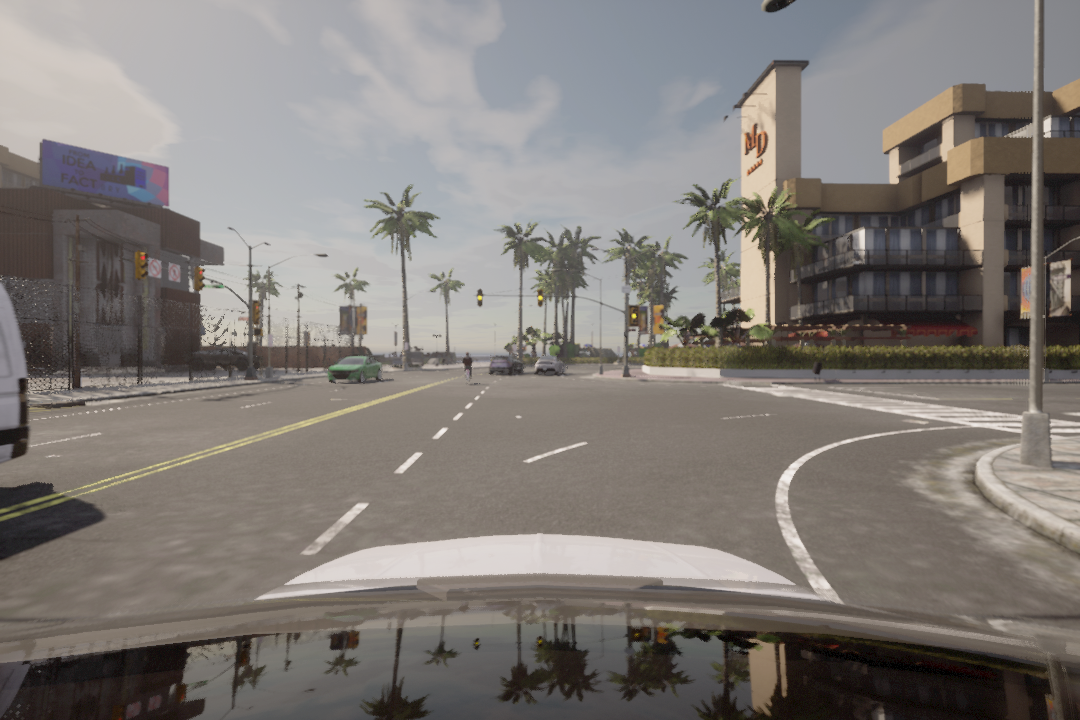TrafficLight: (626, 305, 640, 330), (477, 287, 484, 308), (537, 289, 544, 310)
